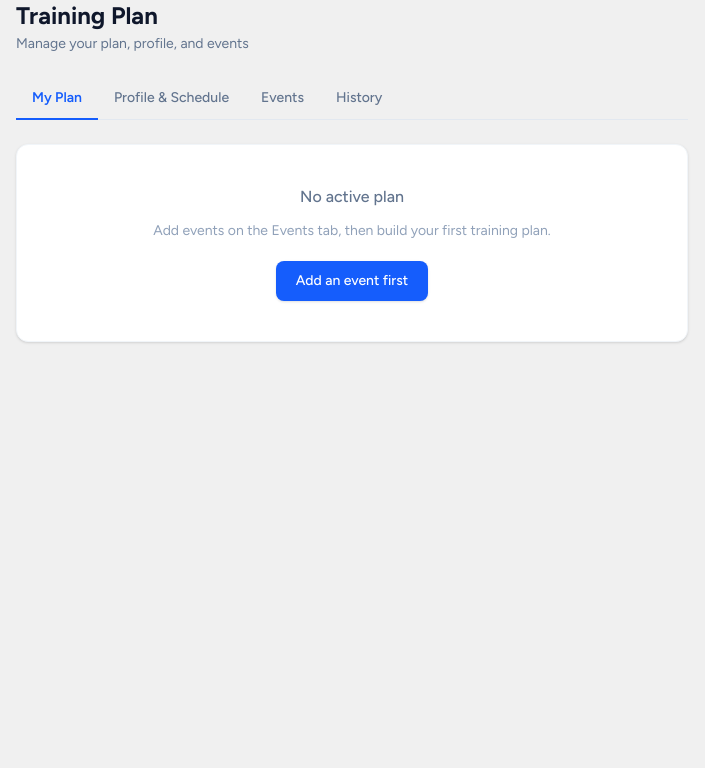
Test case: PlanPage tabs › switches to Profile panel on tab click
The width and height of the screenshot is (705, 768).
Click the button "Profile & Schedule" at (172, 99), box [98,78,245,120]
(page scrolled)
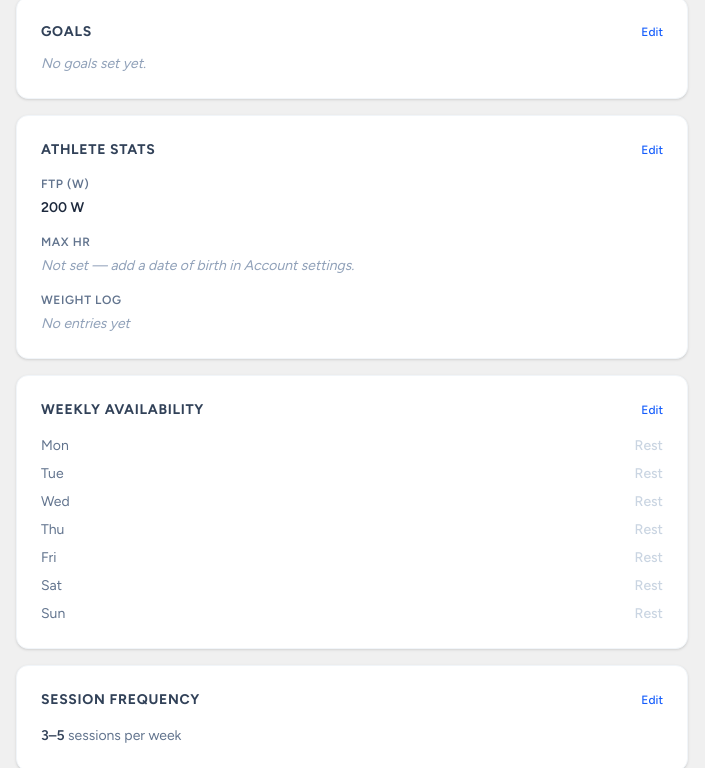
Check: the element with test id "tab-plan" is gone
